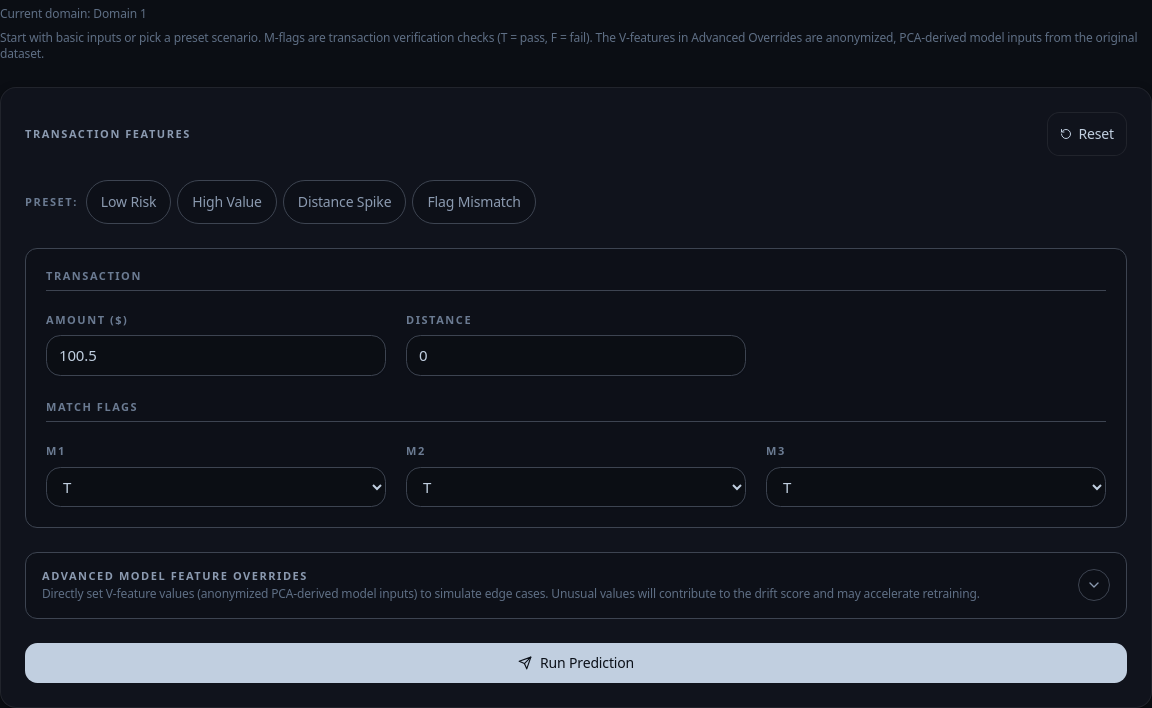
Scenario: TestPanel › renders no definitive prediction for ACTION_ABSTAIN
The image size is (1152, 708).
(page scrolled)
Step 1. Click the button "Run Prediction" → [576, 663], box [25,643,1127,683]
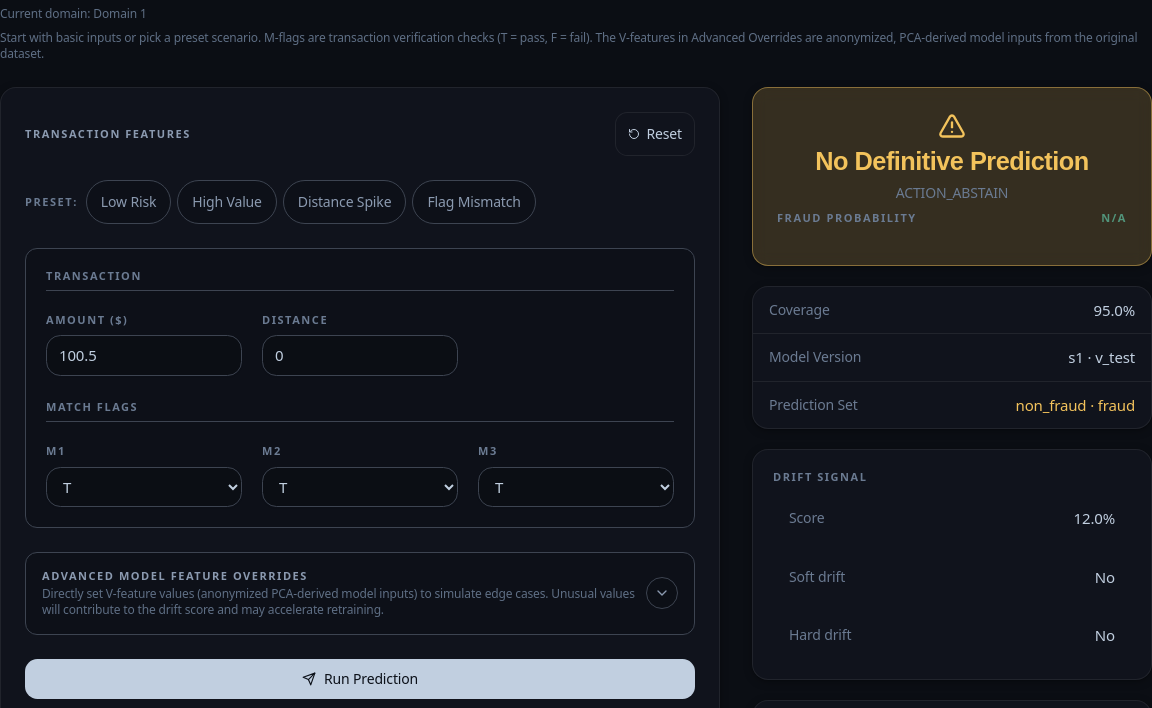
Check: the text "No Definitive Prediction" is shown, box [815,147,1089,175]
Check: the text "ACTION_ABSTAIN" is shown, box [896,183,1008,202]
Check: the text "N/A" is shown, box [1101,211,1127,224]
